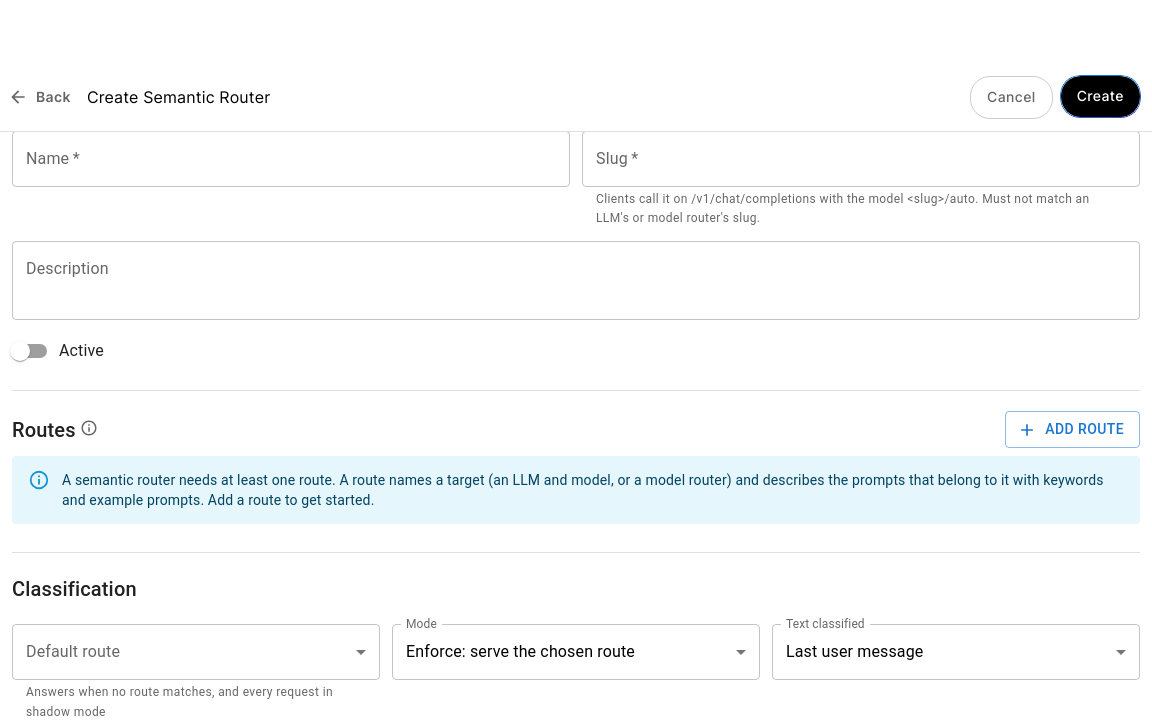
Test: SemanticRouterForm › refuses to save without routes and names what is missing
The image size is (1152, 720).
Click the button "Create".
click(1100, 96)  # box [1061,76,1140,116]
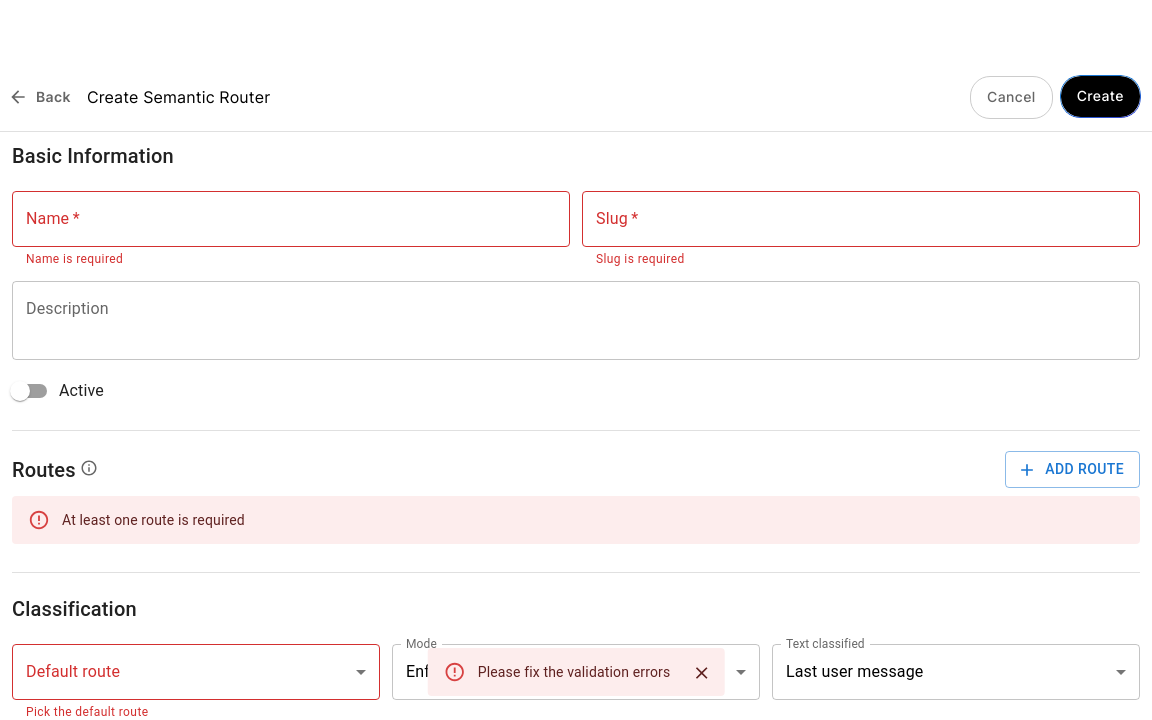
Expected: the message "Some fields need attention; they are marked below." is shown, [12,80,1140,128]
Now the text "At least one route is required" is shown, box [62,512,245,528]
Now the text "Name is required" is shown, box [26,252,123,266]
